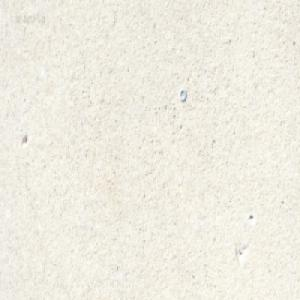Washer: (178, 87, 186, 101)
